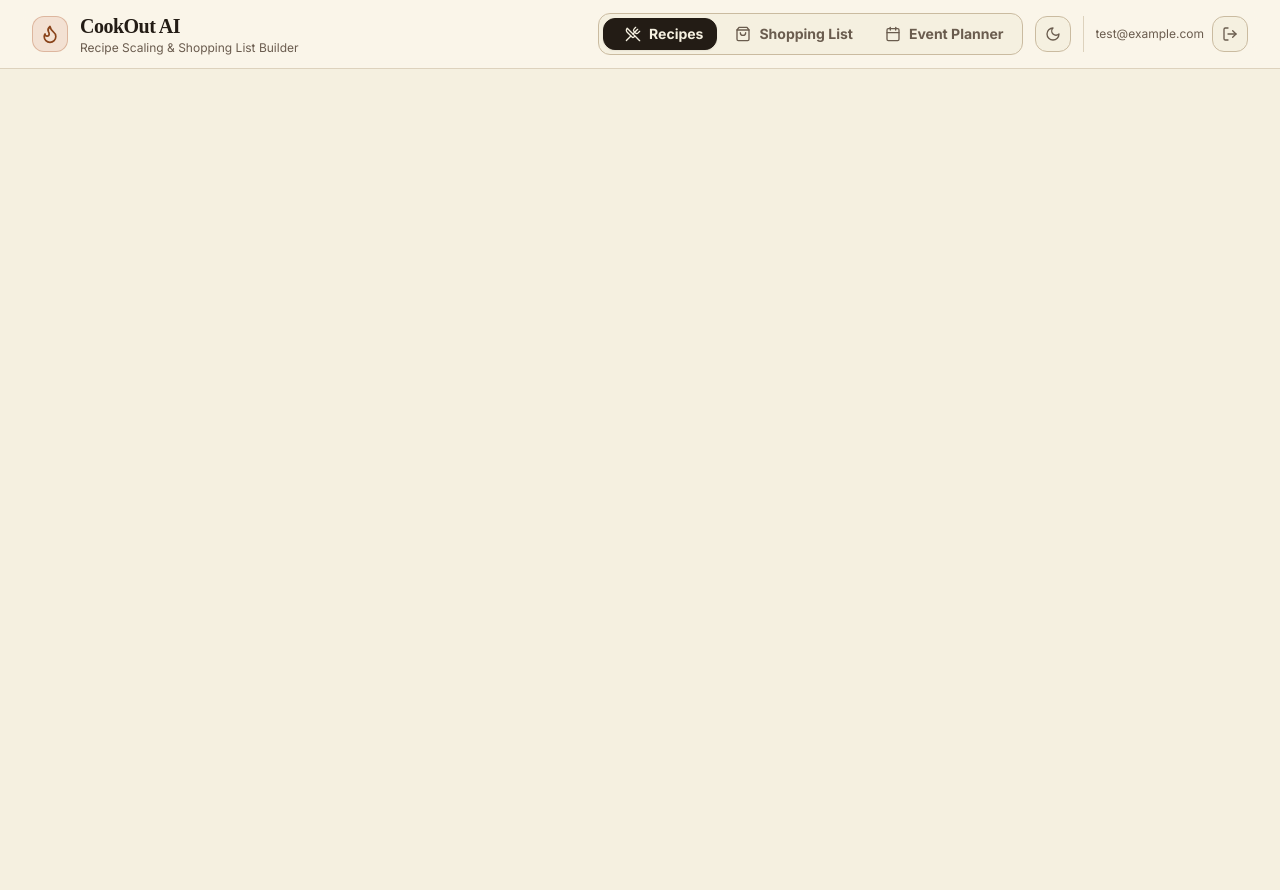
Test case: Web UI (TanStack Query & App Integration Tests) › Event Planner UI Tests › displays 400 error message (invalid guest group) from POST /api/events/plan
Click the button "Event Planner" at (944, 34), box [871,18,1018,50]
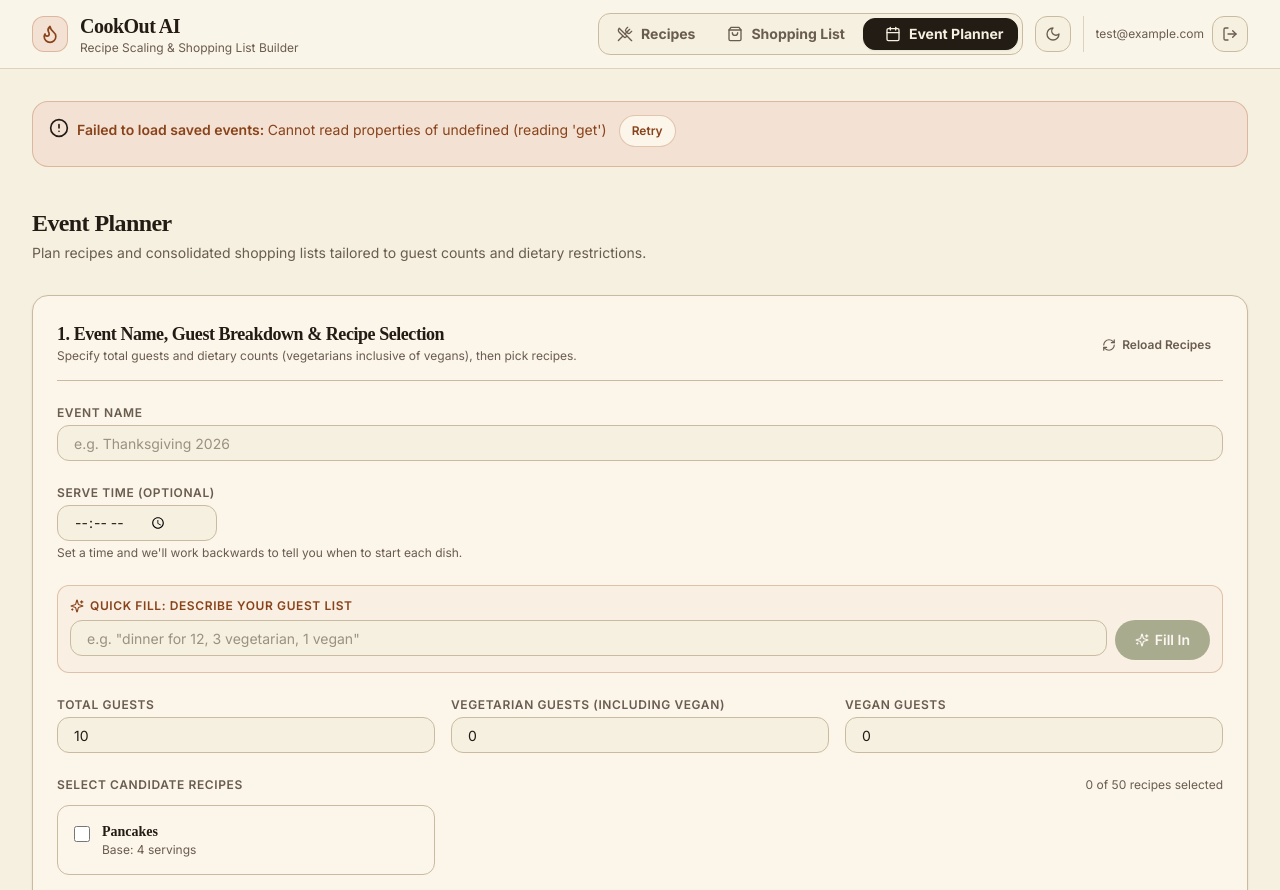
Now the text "Pancakes" is shown, box [102,824,158,839]
Click the checkbox named "select recipe pancakes" at (82, 834), box [74,826,90,842]
(page scrolled)
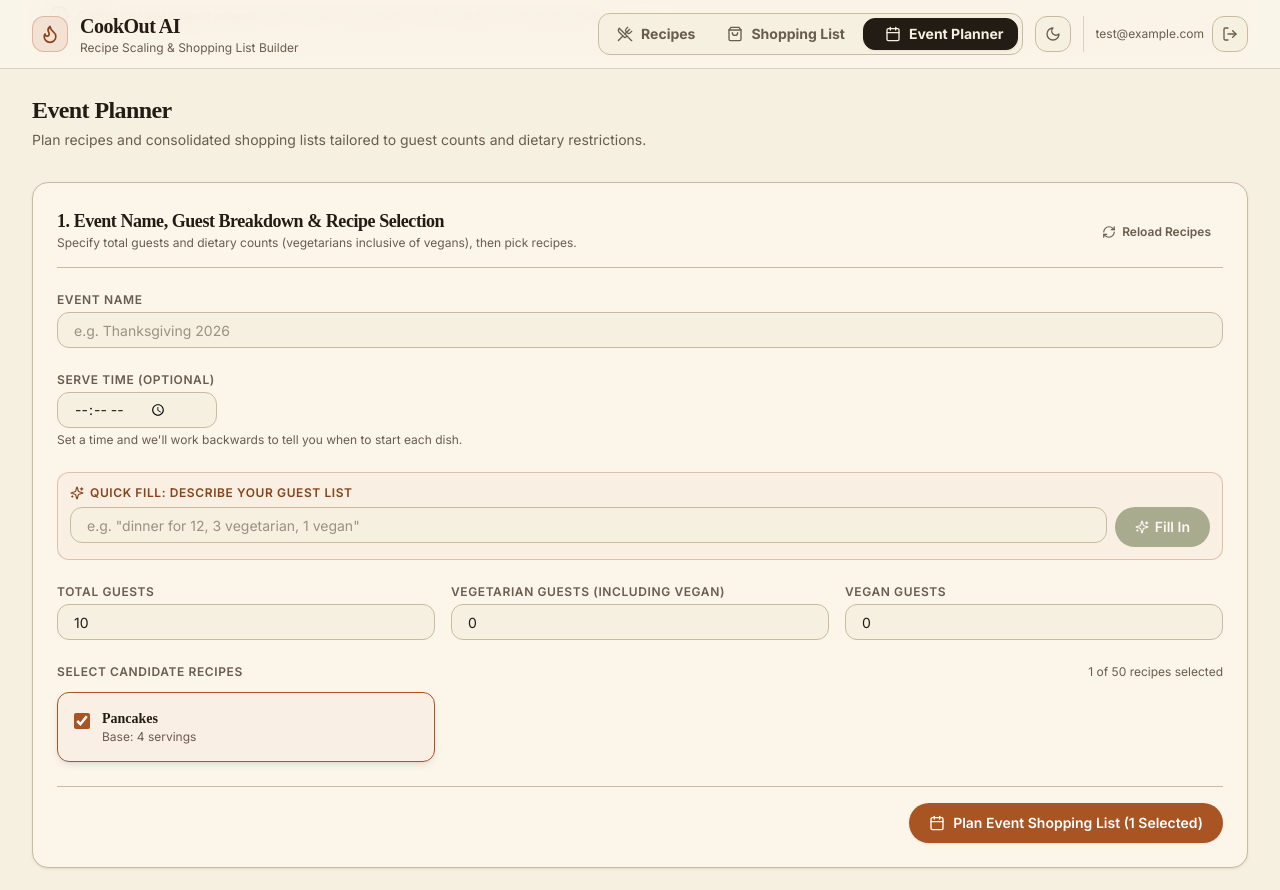
Click the button "Plan Event Shopping List (1 Selected)" at (1066, 823), box [909,803,1223,843]
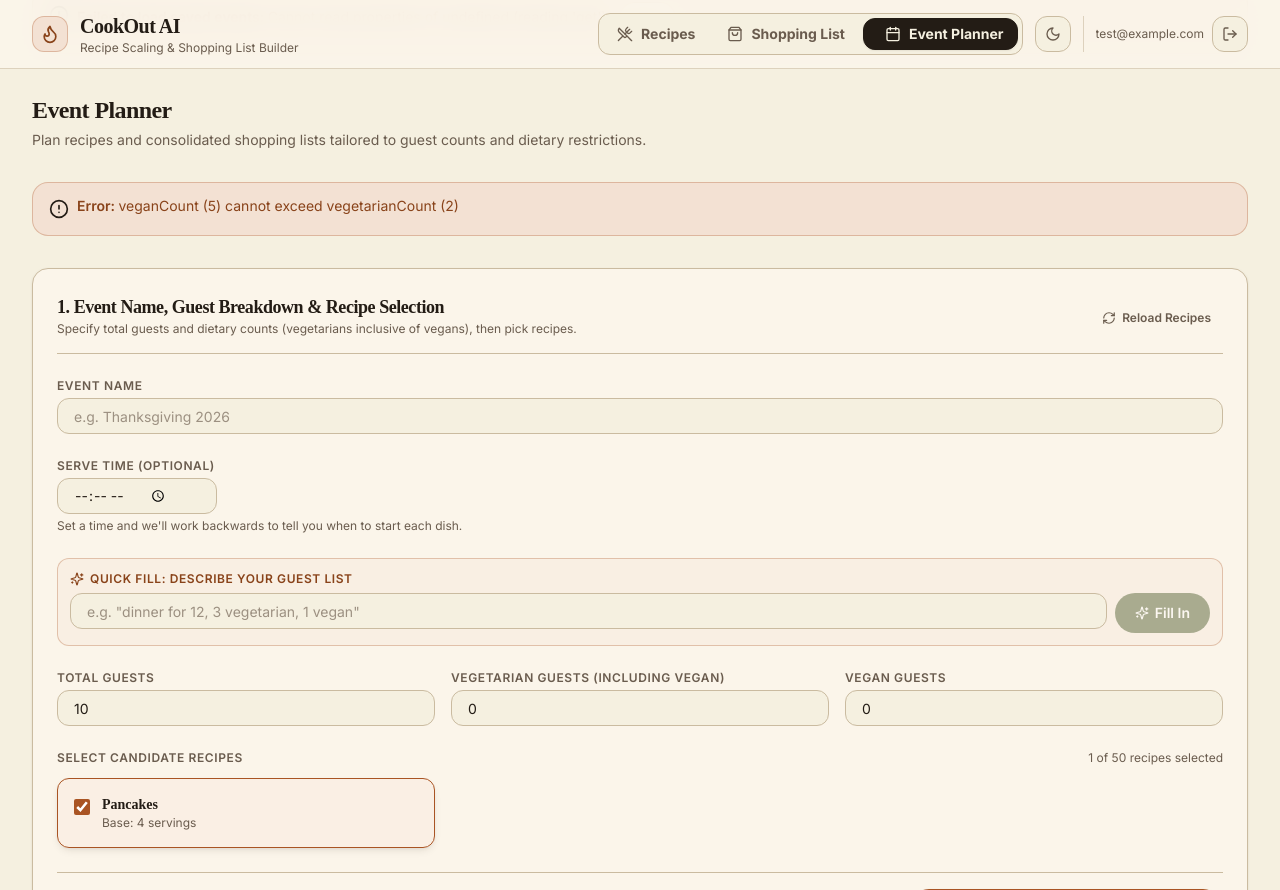
Now the text "veganCount (5) cannot exceed vegetarianCount (2)" is shown, box [118,197,459,214]
